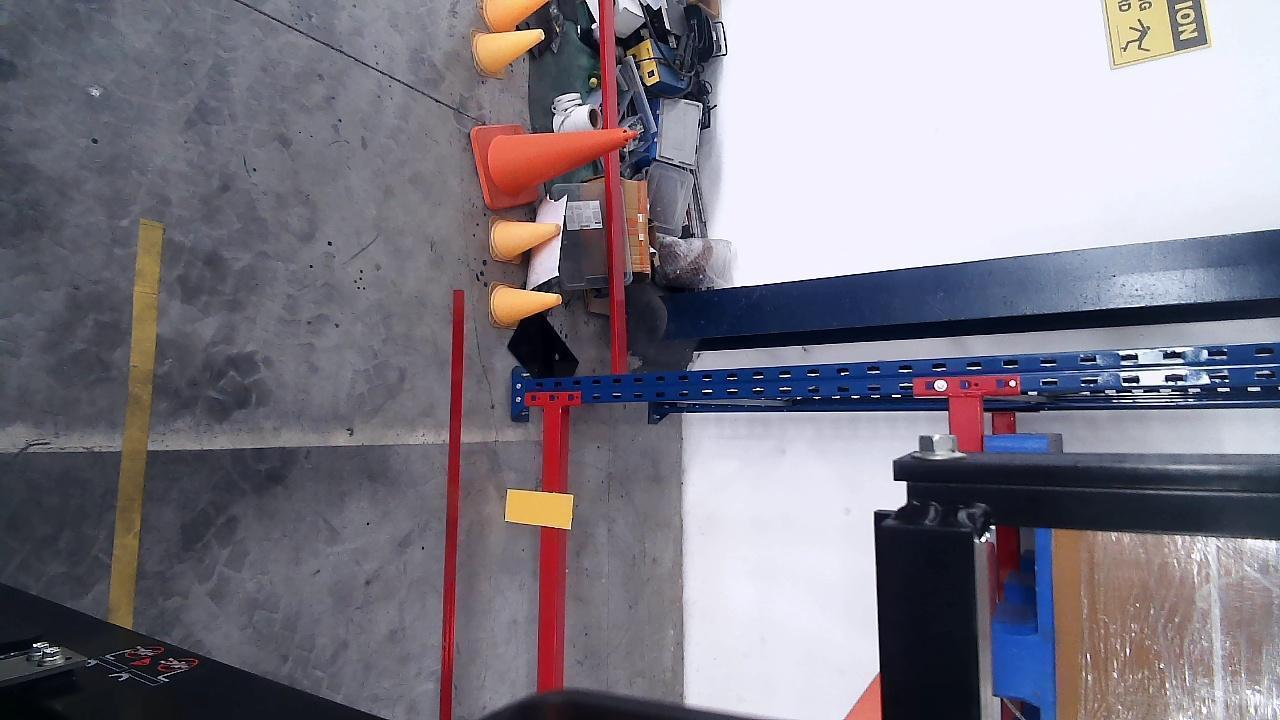red_line: (441, 292, 463, 720)
yellow_line: (113, 218, 162, 629)
